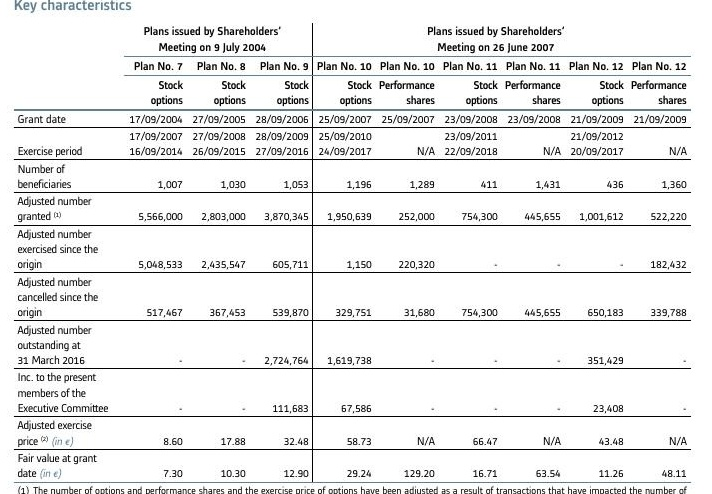table: (0, 0, 712, 494)
